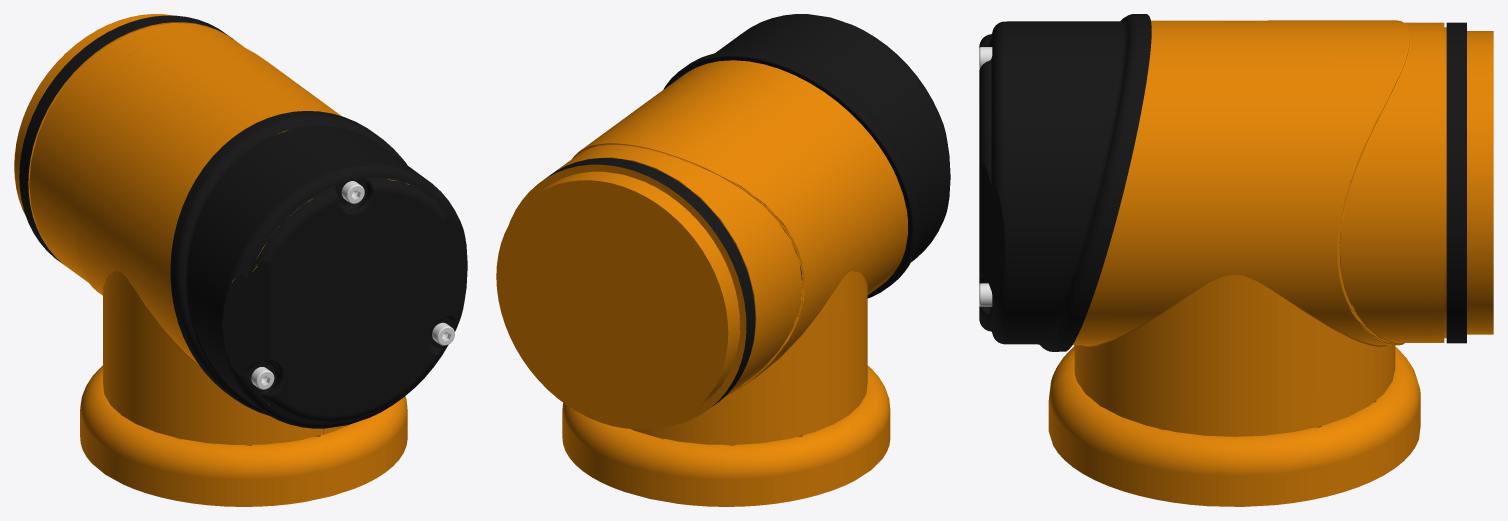
Rendered from wrist1_Link.DAE.
The picture shows the model from 3 angles, left to right: view 1: azimuth 30°, elevation 25°; view 2: azimuth 150°, elevation 25°; view 3: azimuth 270°, elevation 25°; orthographic projection. The views are drawn at different scales.
Parts seen in each view (by area): view 1: NONE-DC_Shell_ncl1_6, NONE-DC_Shell_ncl1_3, NONE-DC_Shell_ncl1_7, NONE-DC_Shell_ncl1_5, NONE-DC_Shell_ncl1_4; view 2: NONE-DC_Shell_ncl1_3, NONE-DC_Shell_ncl1_4, NONE-DC_Shell_ncl1_7, NONE-DC_Shell_ncl1_6, NONE-DC_Shell_ncl1_5; view 3: NONE-DC_Shell_ncl1_3, NONE-DC_Shell_ncl1_6, NONE-DC_Shell_ncl1_7, NONE-DC_Shell_ncl1_4, NONE-DC_Shell_ncl1_5.
Part boxes in pixels (box(x1,y1,x2,y2)): NONE-DC_Shell_ncl1_6: box(170, 111, 467, 428); NONE-DC_Shell_ncl1_3: box(28, 22, 409, 444); NONE-DC_Shell_ncl1_7: box(80, 365, 407, 506); NONE-DC_Shell_ncl1_5: box(19, 15, 235, 280); NONE-DC_Shell_ncl1_4: box(14, 14, 230, 272); NONE-DC_Shell_ncl1_3: box(552, 60, 907, 444); NONE-DC_Shell_ncl1_4: box(496, 164, 746, 429); NONE-DC_Shell_ncl1_7: box(562, 319, 890, 506); NONE-DC_Shell_ncl1_6: box(663, 14, 950, 298); NONE-DC_Shell_ncl1_5: box(544, 158, 755, 406); NONE-DC_Shell_ncl1_3: box(1072, 20, 1446, 436); NONE-DC_Shell_ncl1_6: box(979, 14, 1151, 351); NONE-DC_Shell_ncl1_7: box(1048, 307, 1420, 506); NONE-DC_Shell_ncl1_4: box(1467, 31, 1493, 334); NONE-DC_Shell_ncl1_5: box(1446, 22, 1466, 343).
Bounding box in the file's own units: 86.93 × 120 × 103.
